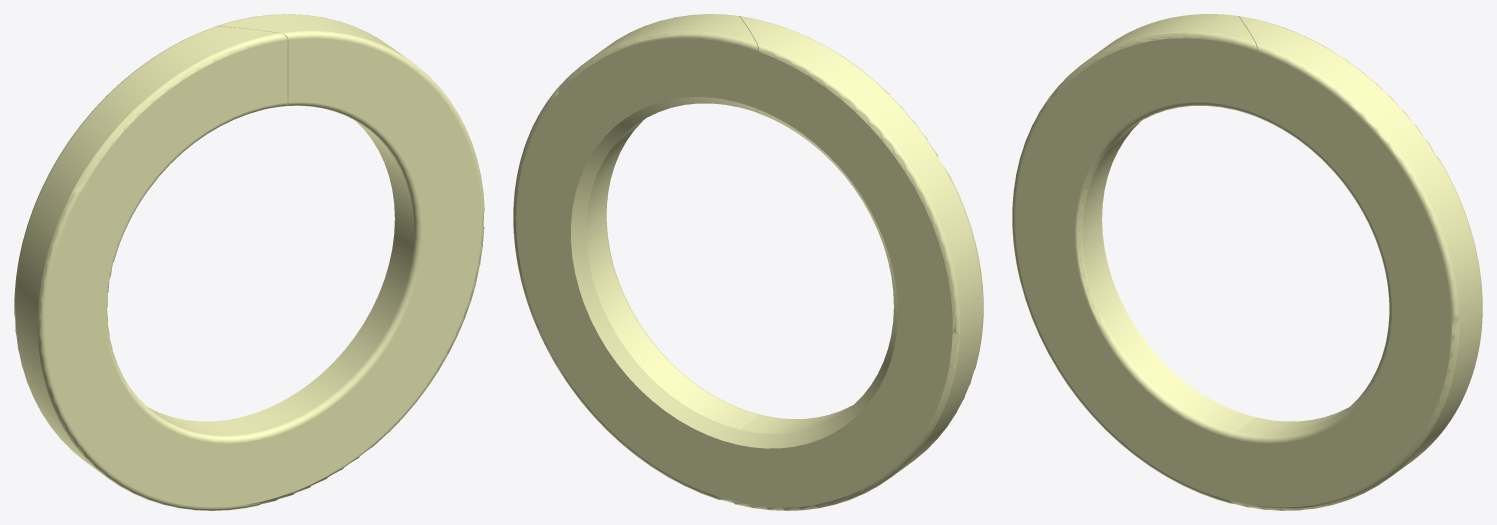
The model's file is 463002_BACKUP RING.fbx.
3 renders of one model, left to right at view 1: azimuth 30°, elevation 25°; view 2: azimuth 150°, elevation 25°; view 3: azimuth 330°, elevation 25°, orthographic.
Visible parts, largest first — view 1: meshes[0]; view 2: meshes[0]; view 3: meshes[0].
Boxes of the visible parts, bbox=[...] form: meshes[0]: bbox=[14, 14, 484, 510]; meshes[0]: bbox=[513, 14, 983, 510]; meshes[0]: bbox=[1012, 14, 1482, 510].
Size of the model in its own units: 9.14 by 9.14 by 1.
